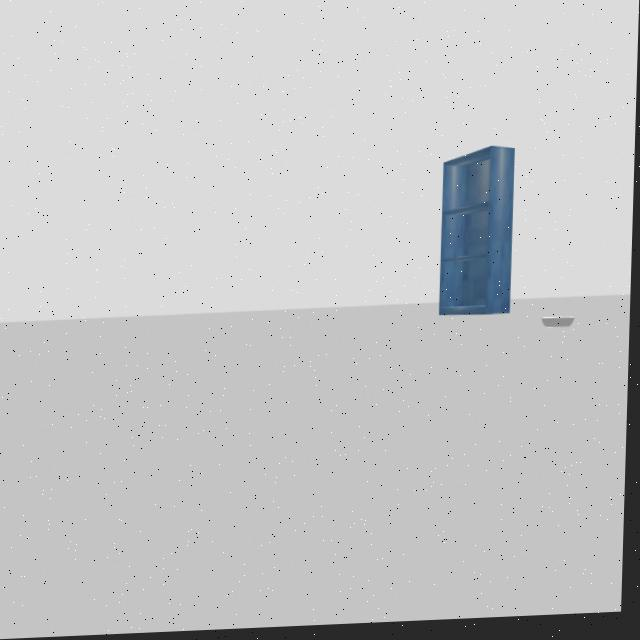bowl: (539, 314, 584, 343)
shelf: (428, 135, 527, 335)
